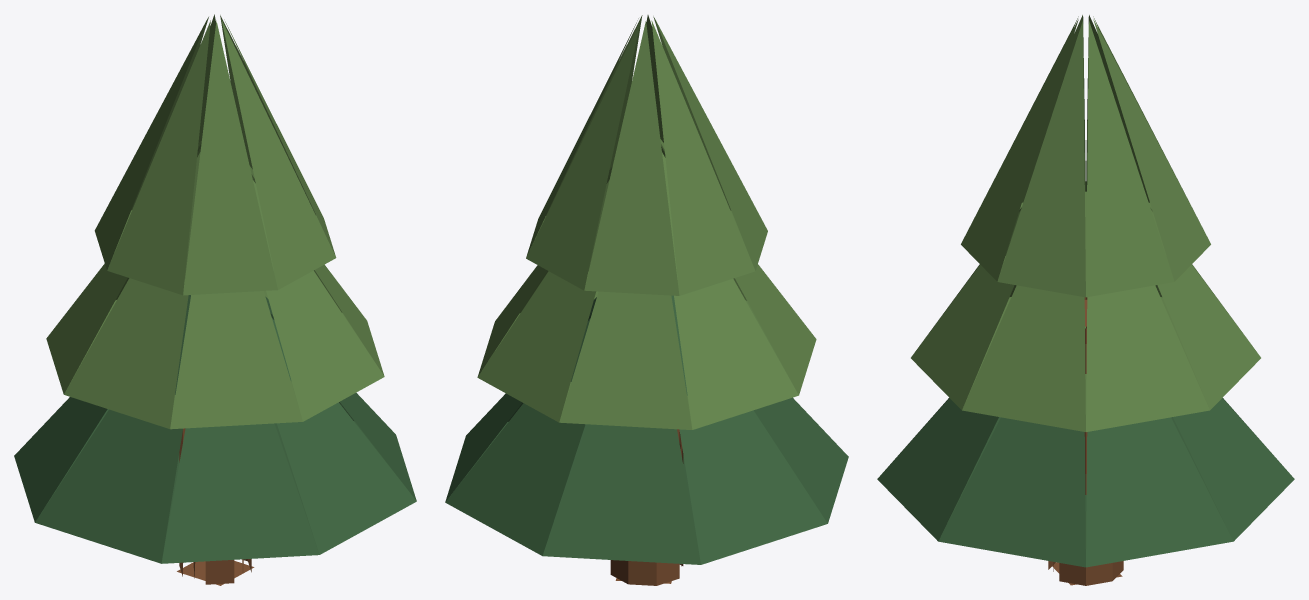
Rendered from pine.glb.
3 views of the same model, side by side, from view 1: azimuth 30°, elevation 25°; view 2: azimuth 150°, elevation 25°; view 3: azimuth 270°, elevation 25° (orthographic).
Visible parts, largest first — view 1: village_pine; view 2: village_pine; view 3: village_pine.
Boxes of the visible parts, x1=… form: village_pine: x1=14, y1=14, x2=416, y2=585; village_pine: x1=445, y1=15, x2=848, y2=585; village_pine: x1=877, y1=15, x2=1294, y2=585.
Size of the model in its own units: 50 by 73.05 by 50.
